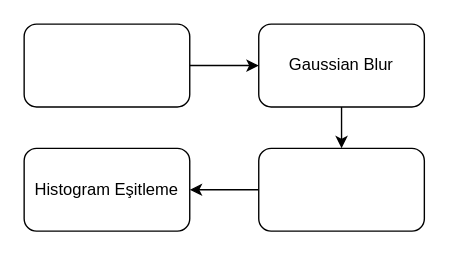
The diagram is 449 pixels wide and 255 high, and some of its shapes have lost their labels. Here are the shapes that lost their labels. From the top down, the centre of each, then its label:
(x=106, y=65): Kanal Seçimi
(x=340, y=189): Morfolojik Kapanım
